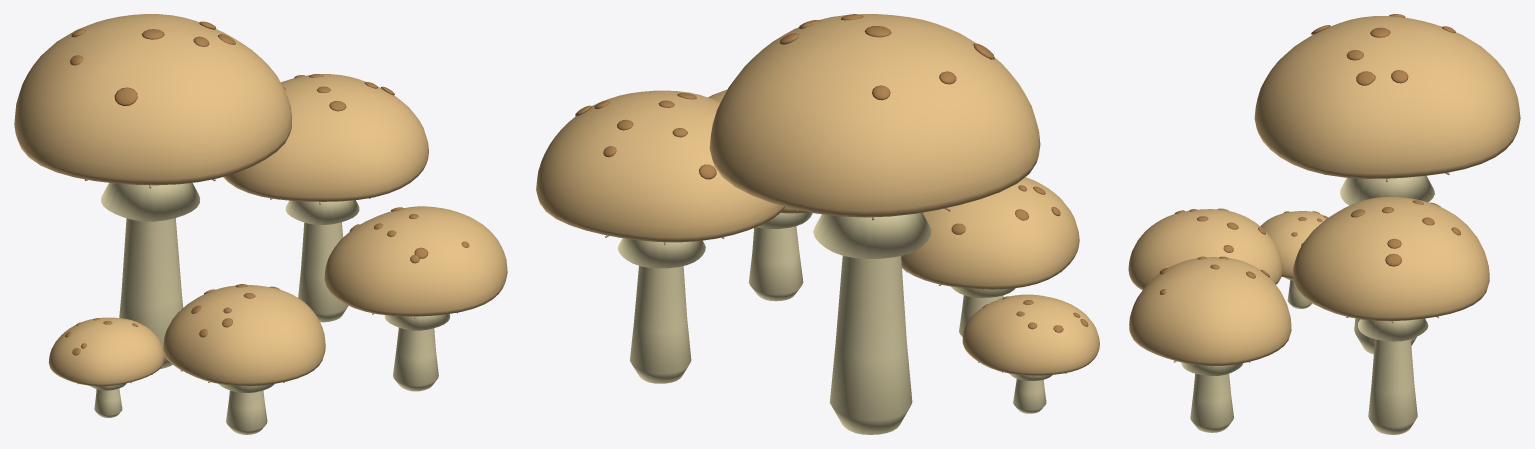
Rendered from SM_SF_MushroomCluster_03.fbx.
3 renders of one model, left to right at view 1: azimuth 30°, elevation 25°; view 2: azimuth 150°, elevation 25°; view 3: azimuth 270°, elevation 25°, orthographic. The views are drawn at different scales.
Visible parts, largest first — view 1: SM_SF_MushroomCluster_03; view 2: SM_SF_MushroomCluster_03; view 3: SM_SF_MushroomCluster_03.
Part boxes in pixels (x1,y1,x2,y2): SM_SF_MushroomCluster_03: [14, 14, 507, 434]; SM_SF_MushroomCluster_03: [536, 14, 1099, 434]; SM_SF_MushroomCluster_03: [1128, 14, 1520, 434].
Size of the model in its own units: 1.56 by 1.37 by 1.21.
